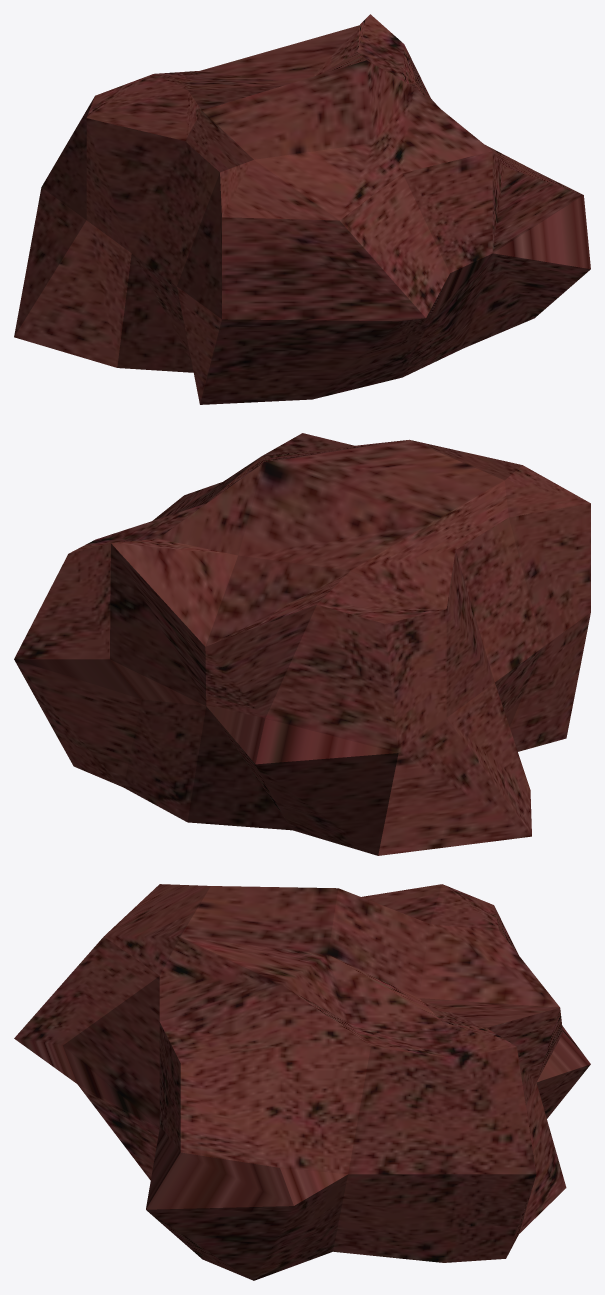
The model's file is iron.glb.
The picture shows the model from 3 angles, top to bottom: view 1: azimuth 30°, elevation 25°; view 2: azimuth 150°, elevation 25°; view 3: azimuth 270°, elevation 25°; orthographic projection. The views are drawn at different scales.
Visible parts, largest first — view 1: Cube; view 2: Cube; view 3: Cube.
Boxes of the visible parts, x1,y1,x2,y2 form: Cube: (14, 14, 590, 404); Cube: (14, 433, 590, 855); Cube: (14, 884, 590, 1280).
Size of the model in its own units: 0.5 by 0.25 by 0.5.
1 material, 1 textured.
